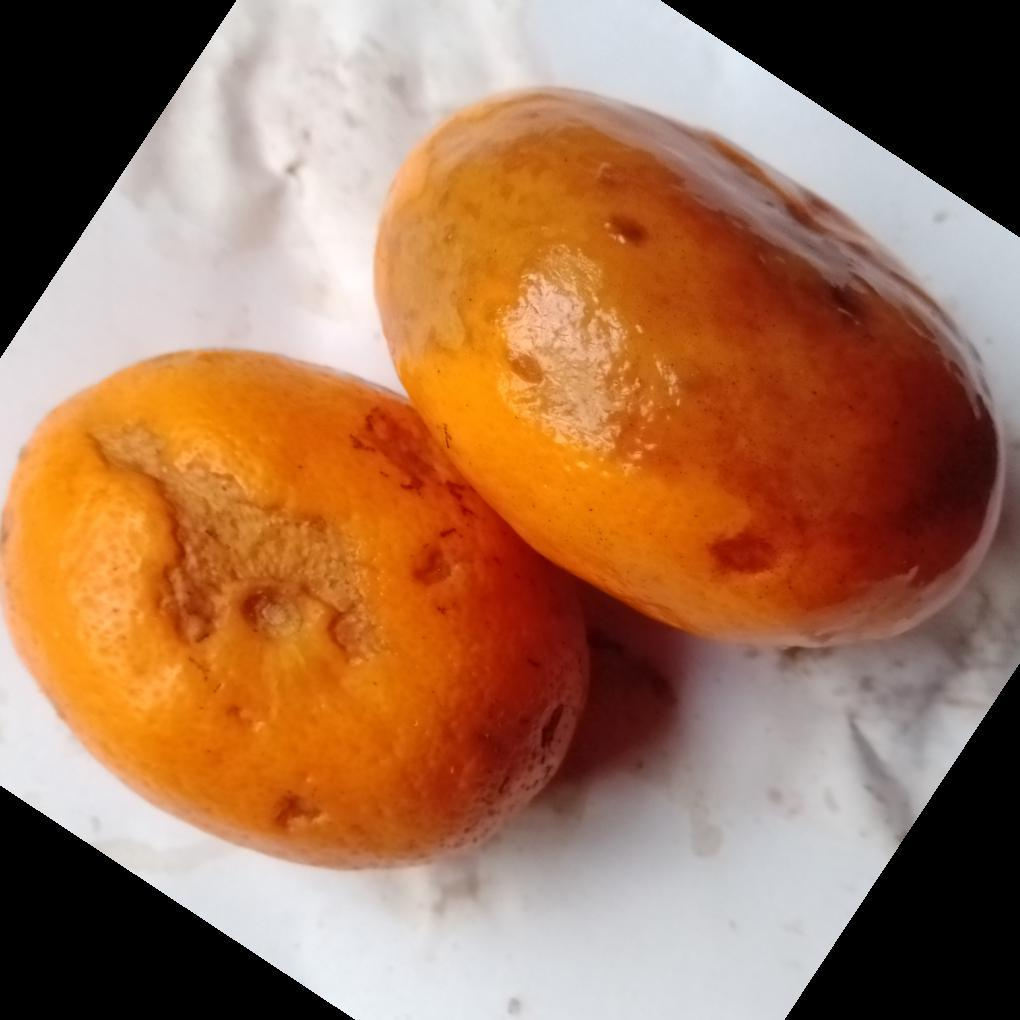FreshOrange: (0, 85, 1006, 873)
